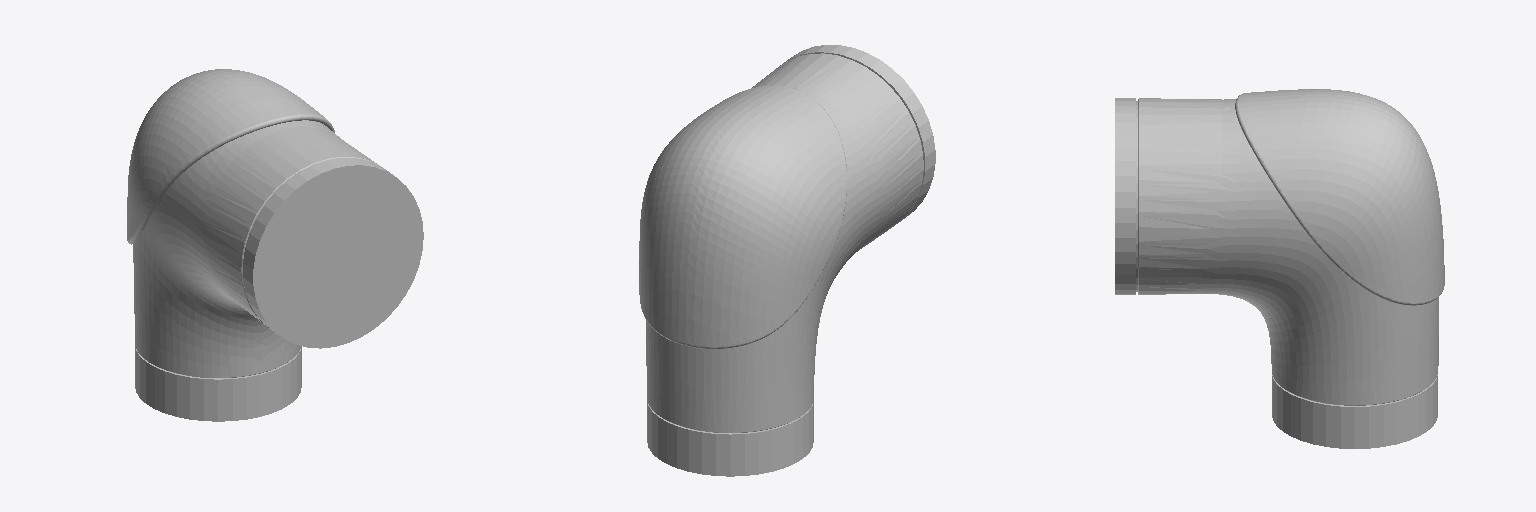
Rendered from right_l3_visuals.obj.
The picture shows the model from 3 angles: view 1: azimuth 30°, elevation 25°; view 2: azimuth 150°, elevation 25°; view 3: azimuth 270°, elevation 25°; orthographic projection.
Size of the model in its own units: 0.1084 by 0.1838 by 0.1739.